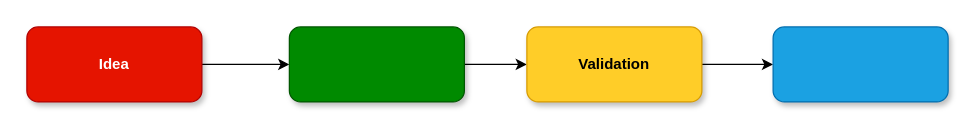
Some shapes in this 978 by 133 pixel diagram are drawn without their labels. Each missing label, with the centre of its shape:
"Deployment" goes at (861,66).
"Simulation" goes at (377,66).
